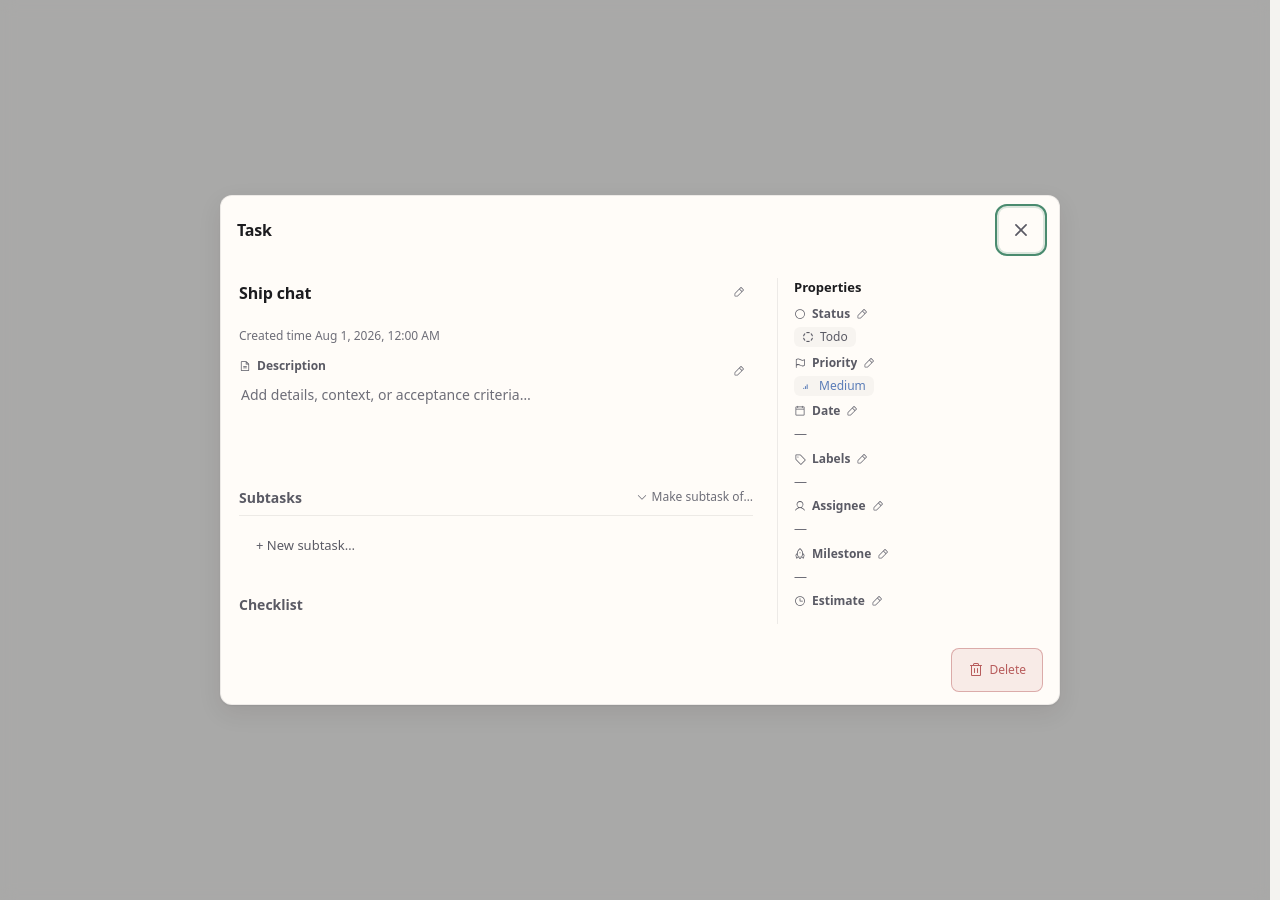
Test case: TaskModal milestone select › returns to view after picking a milestone
Click the 4th button "—": point(918, 576) x1=794 y1=566 x2=1041 y2=586
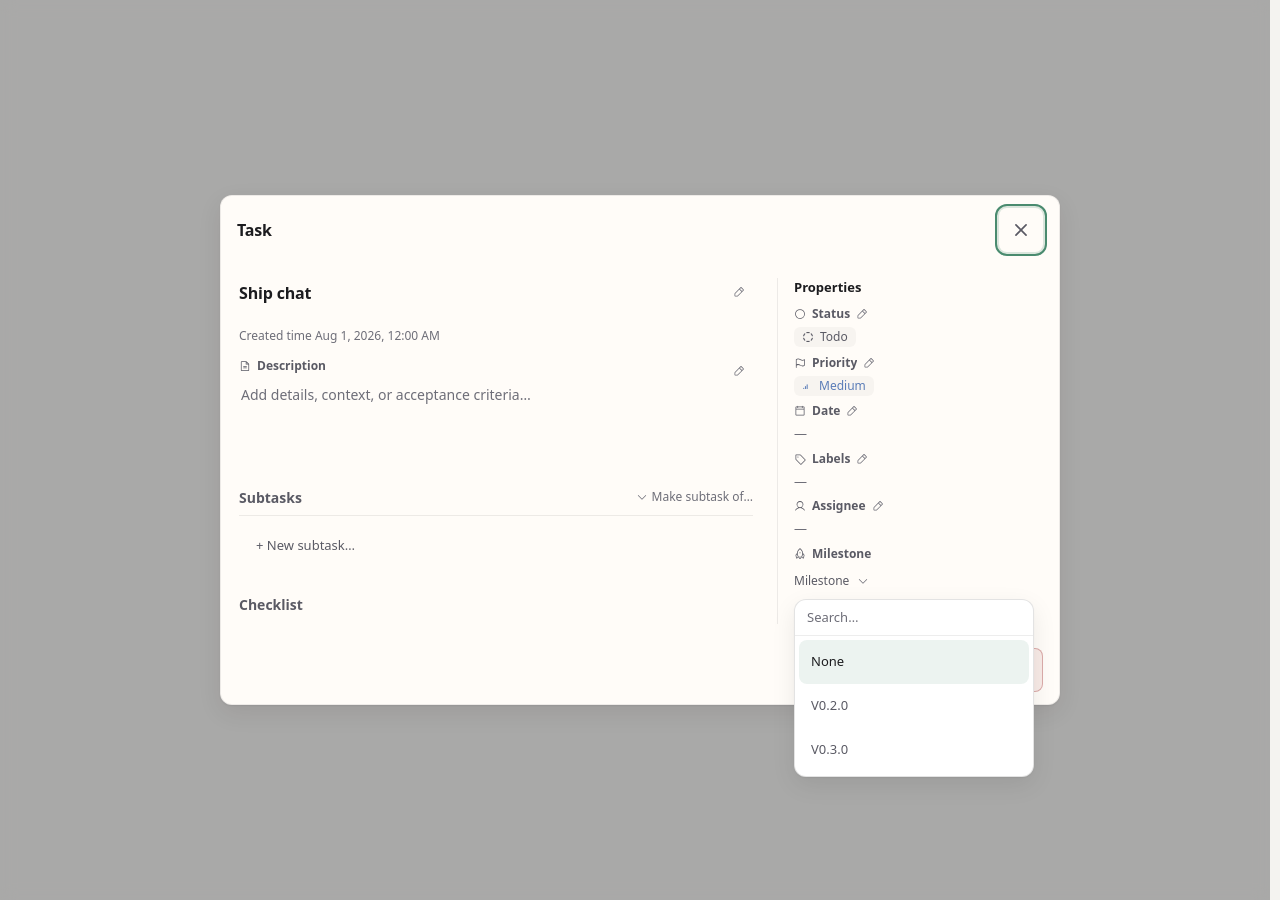
Click the option "V0.3.0": point(914, 750) x1=799 y1=728 x2=1029 y2=772
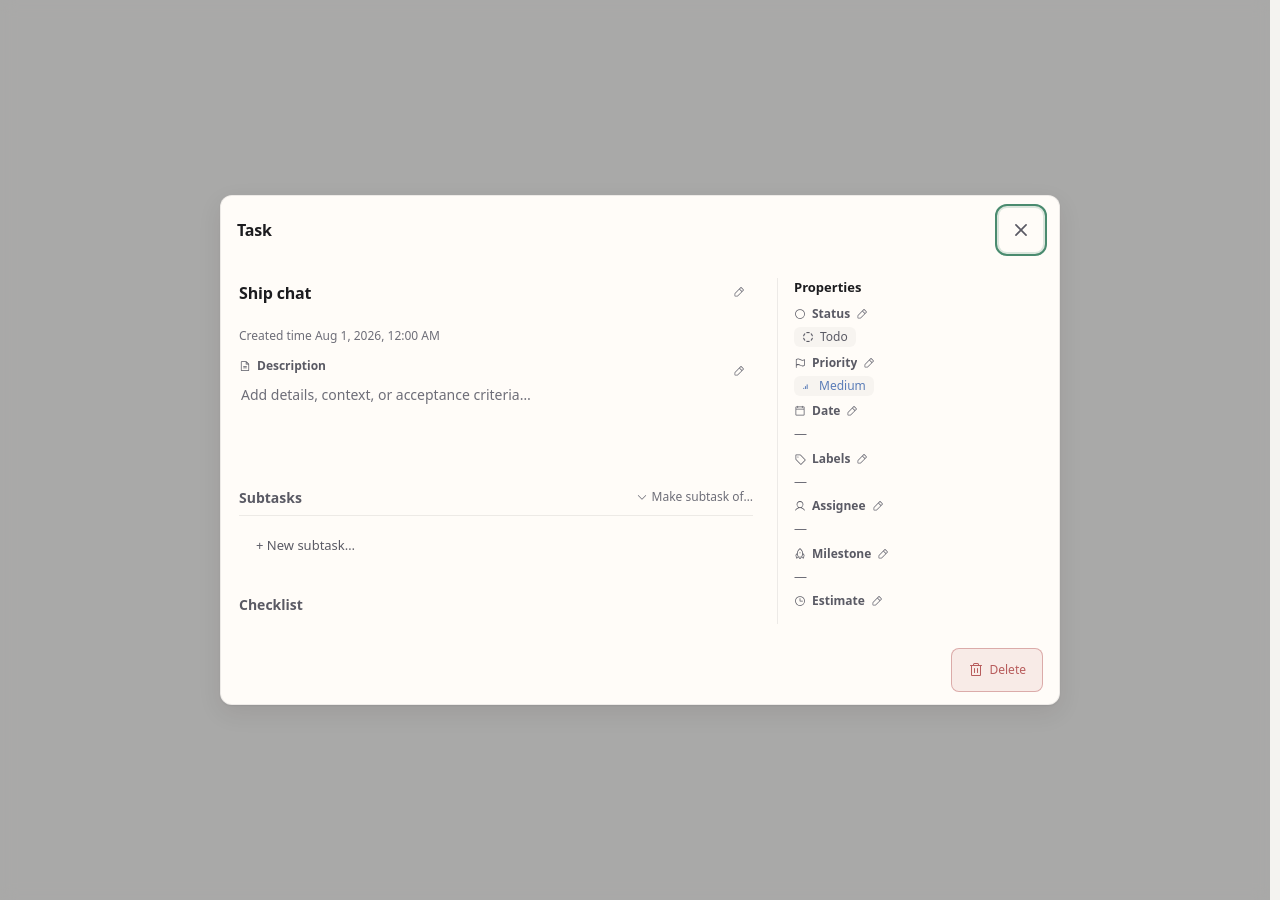
Now the 4th button "—" is shown, box x1=794 y1=566 x2=1041 y2=586
Now the button with id "task-milestone" is gone
